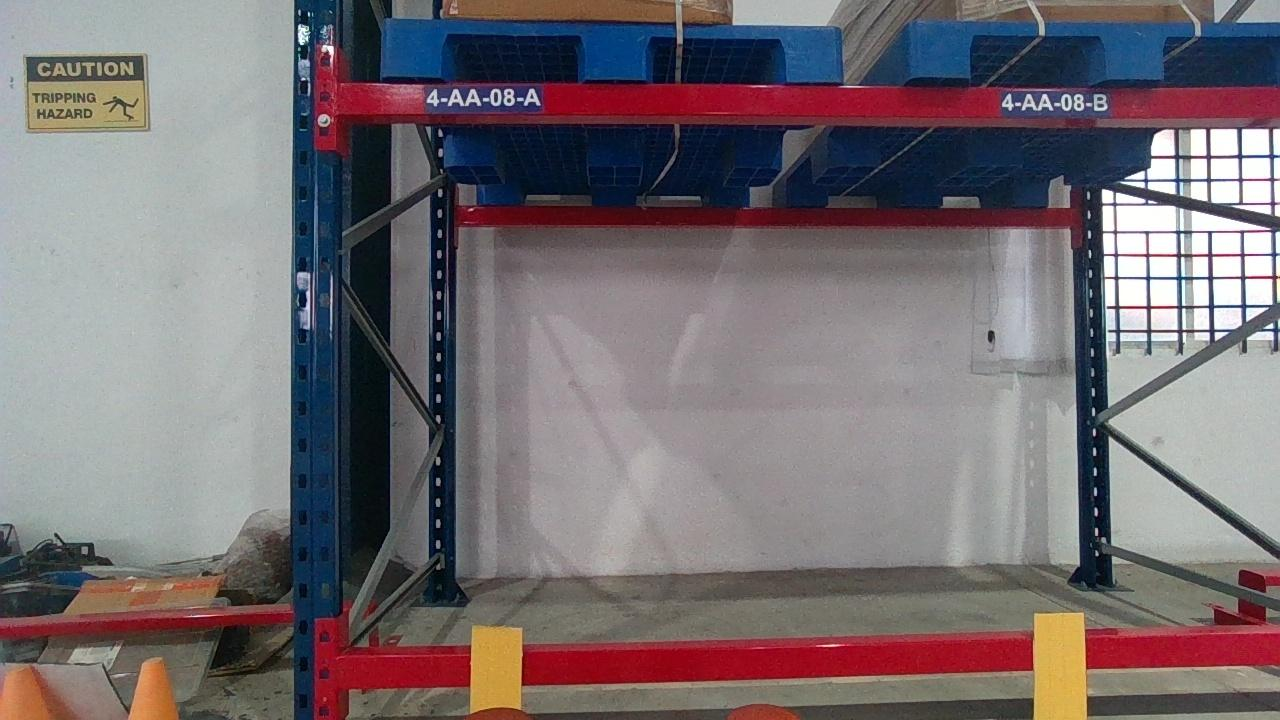h_rack: (342, 628, 1275, 683), (333, 82, 1276, 118)
orange_strip: (1031, 613, 1086, 718), (468, 626, 523, 712)
small_pallet: (380, 20, 844, 78), (911, 20, 1279, 78)
